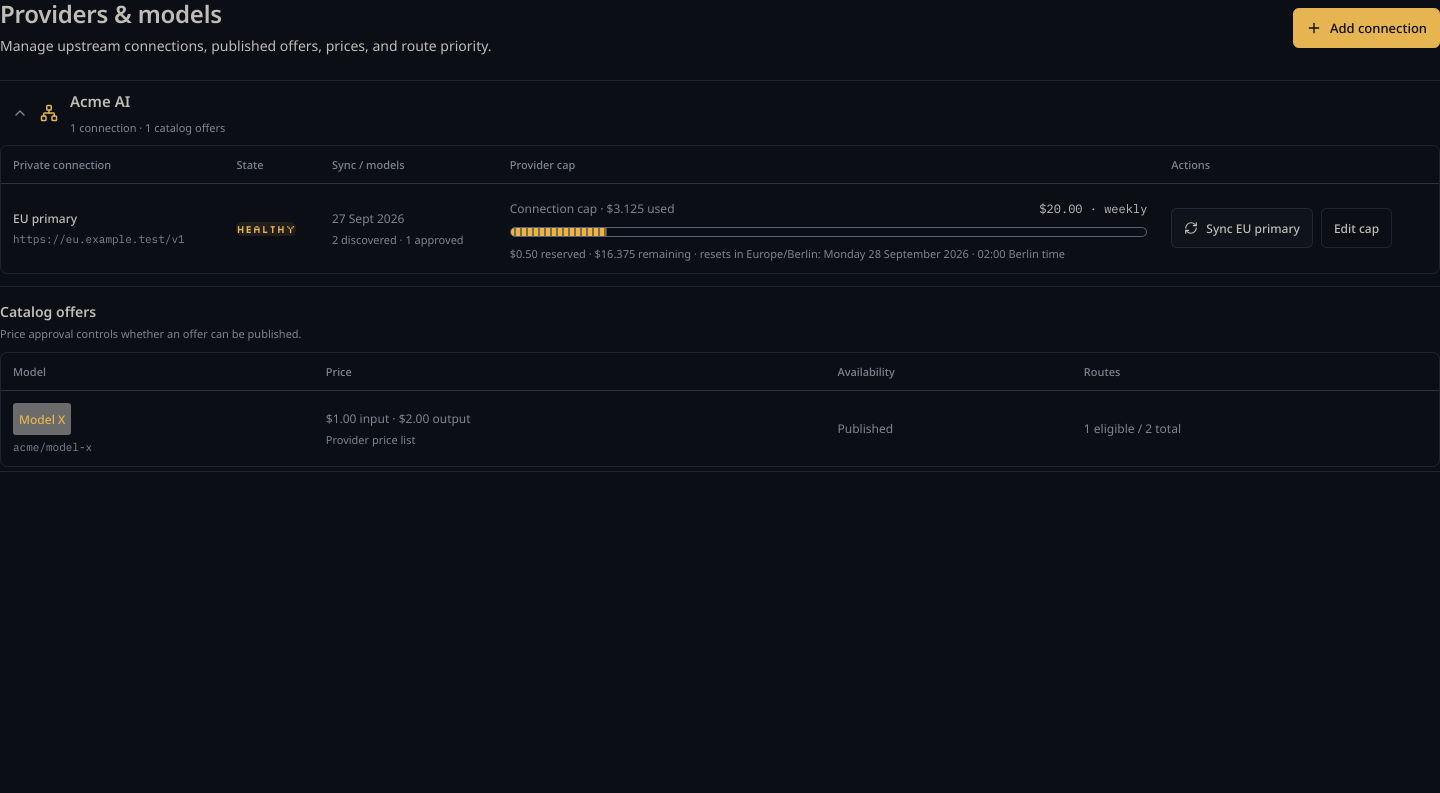
Scenario: Task 8 operator interface › shows_pending_price_beside_active_price
Click the button "Model X".
click(42, 419)  # box [13,403,71,435]
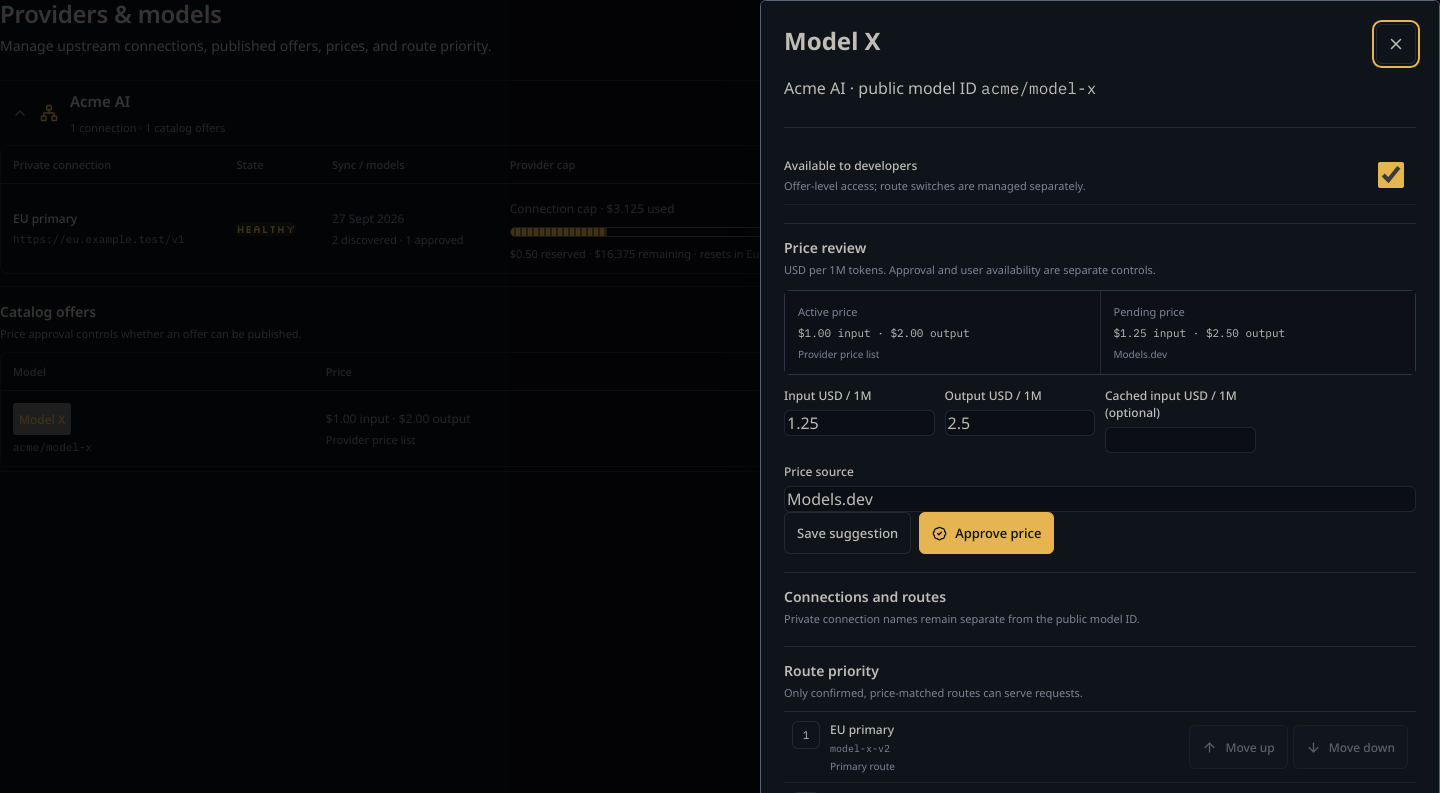
Expected: the text "Active price" is shown, [798,304,857,319]
Expected: the text "Pending price" is shown, [1114,304,1185,319]
Expected: the text "$1.25 input · $2.50 output" is shown, [1114,326,1285,340]
